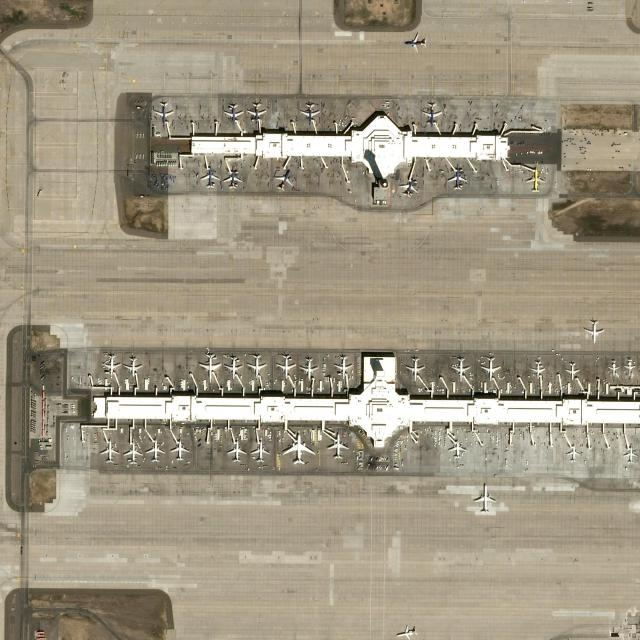1: (394, 623, 419, 639)
aircraft: (282, 433, 316, 465), (473, 482, 496, 514), (198, 351, 222, 381), (327, 432, 350, 462), (582, 317, 606, 343), (152, 100, 175, 126), (222, 99, 244, 125), (402, 32, 428, 54), (524, 167, 546, 193), (274, 353, 296, 378), (481, 354, 502, 380), (247, 100, 269, 124), (421, 100, 443, 124), (446, 166, 468, 190), (450, 356, 472, 380), (404, 355, 426, 379), (98, 440, 120, 464), (144, 440, 166, 464), (272, 168, 294, 191), (198, 168, 220, 190), (299, 100, 320, 122), (169, 440, 190, 462), (334, 355, 354, 378), (251, 441, 271, 464), (447, 439, 467, 462), (223, 355, 242, 379), (248, 353, 266, 378), (227, 441, 247, 463), (123, 356, 143, 378), (102, 353, 120, 377), (222, 168, 242, 189), (398, 179, 420, 198), (123, 442, 142, 464), (300, 356, 318, 378), (530, 359, 546, 379), (566, 443, 582, 462), (564, 361, 580, 379), (622, 446, 636, 466), (606, 358, 620, 376), (624, 358, 636, 376)
